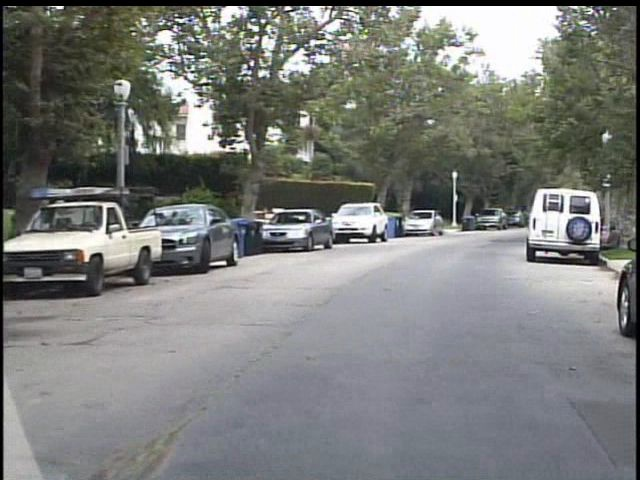person: (605, 223, 625, 253)
